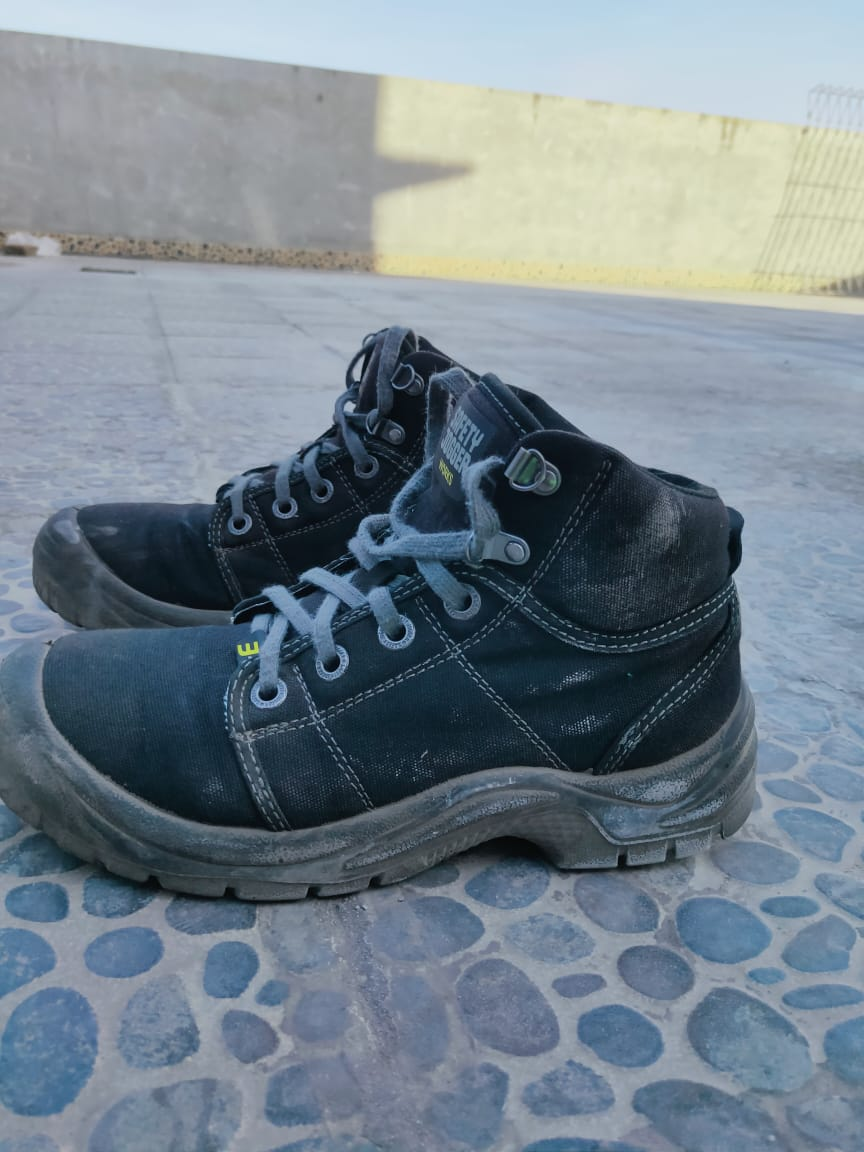SEPATU: (40, 441, 740, 867)
